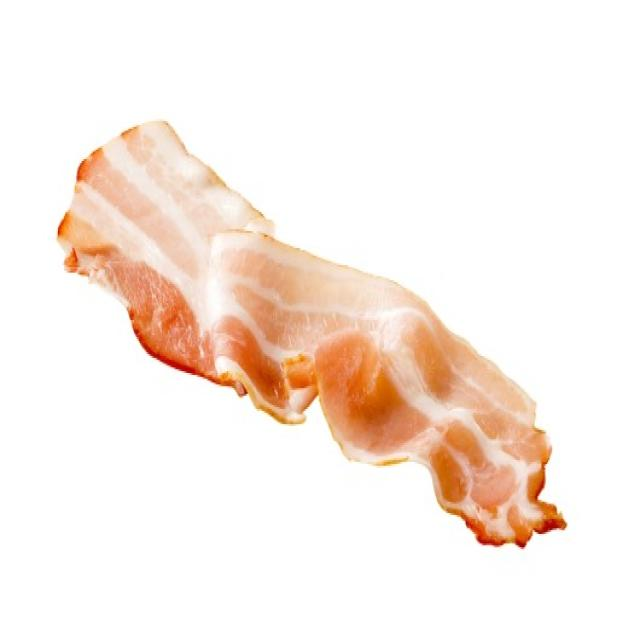bacon: (50, 92, 580, 561)
